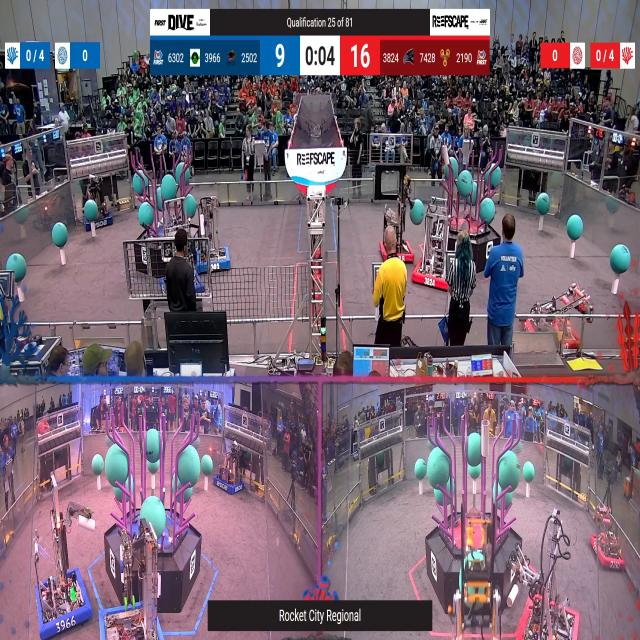scoreboard: (150, 35, 490, 77)
